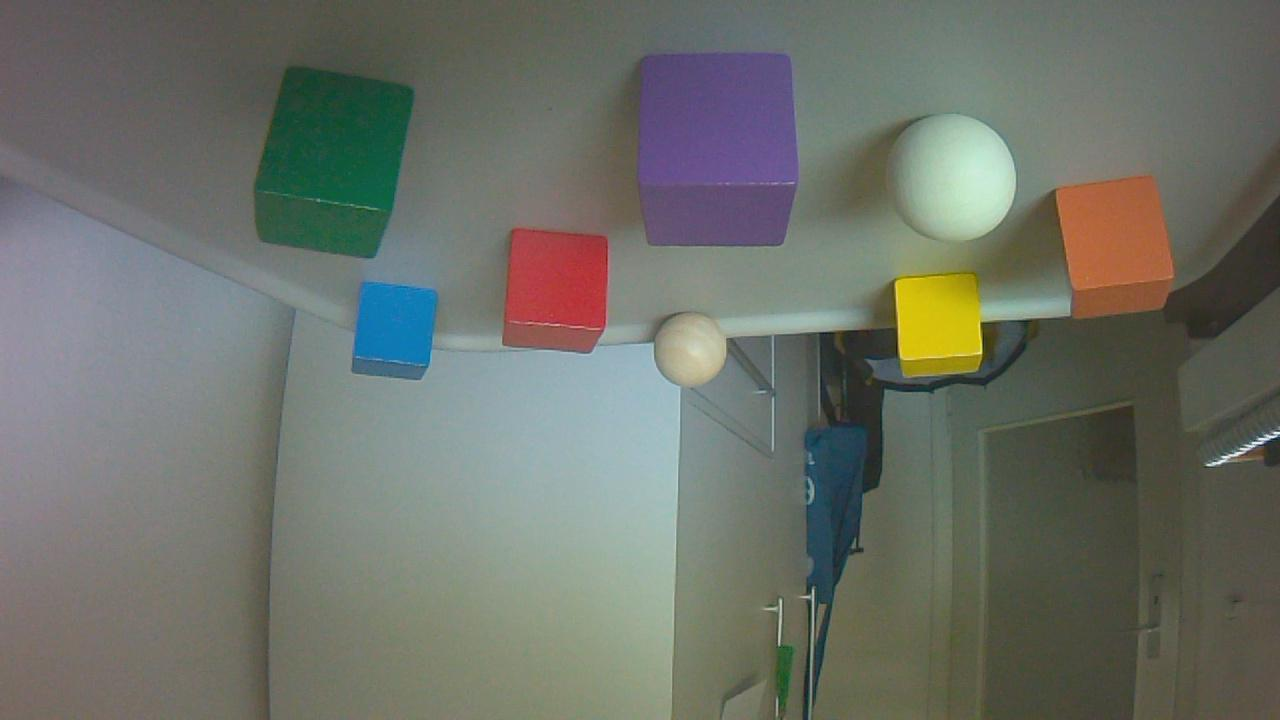ball: (894, 120, 1019, 240), (655, 315, 729, 387)
cube_blue: (346, 280, 439, 382)
cube_green: (247, 68, 415, 259)
cube_orange: (1051, 188, 1169, 317)
cube_purple: (637, 59, 796, 244)
cube_red: (498, 230, 612, 353)
cube_yellow: (889, 279, 985, 373)
